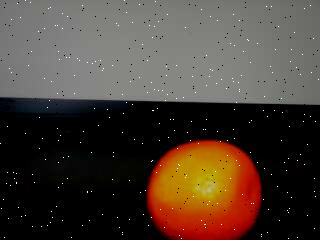Orange: (146, 140, 260, 240)
